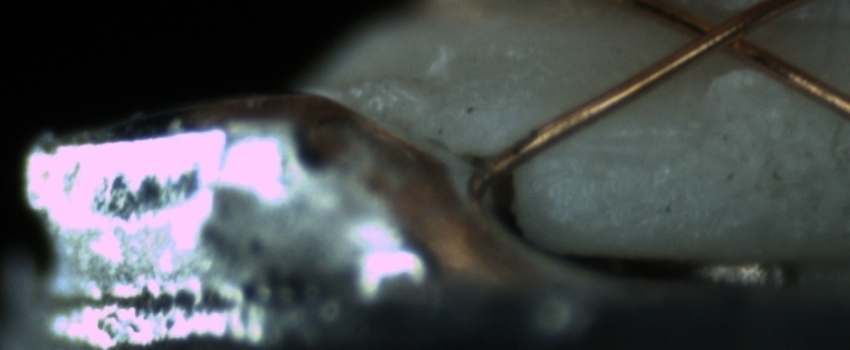CL: (667, 4, 768, 65)
DL: (562, 109, 695, 173)
